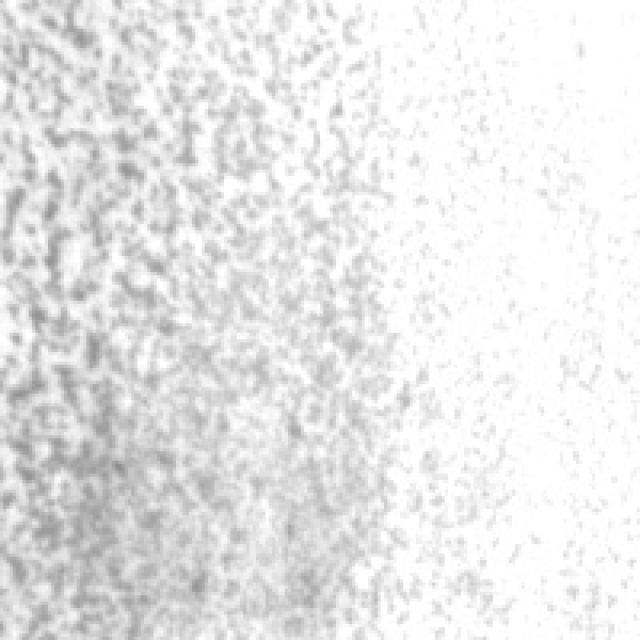pitted_surface: (3, 0, 394, 637), (406, 9, 605, 634)
